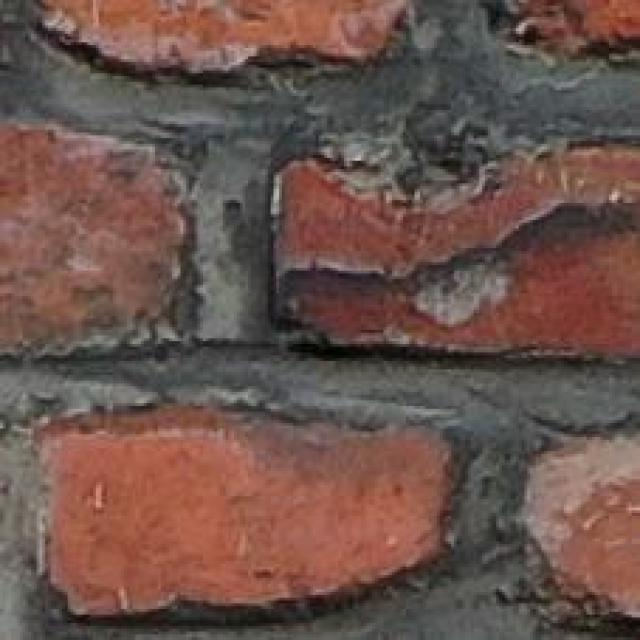Crack: (114, 74, 508, 434)
